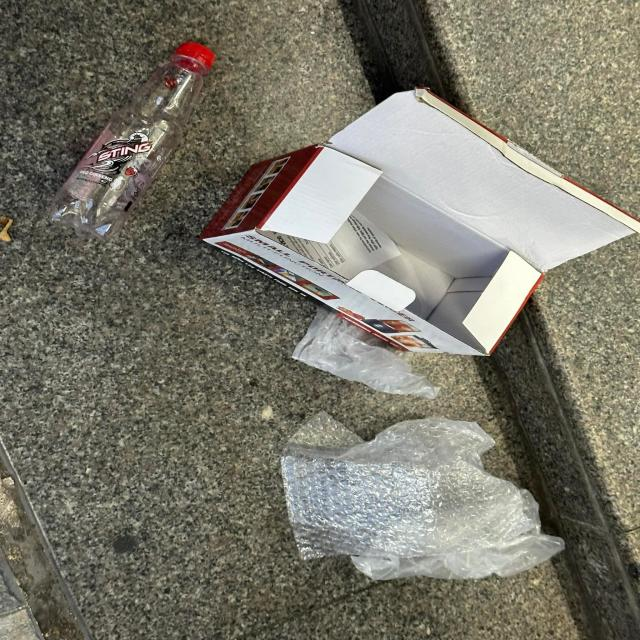bag: (281, 409, 566, 580), (291, 304, 441, 399)
bottle: (48, 41, 216, 239)
cardboard box: (200, 87, 640, 356)
